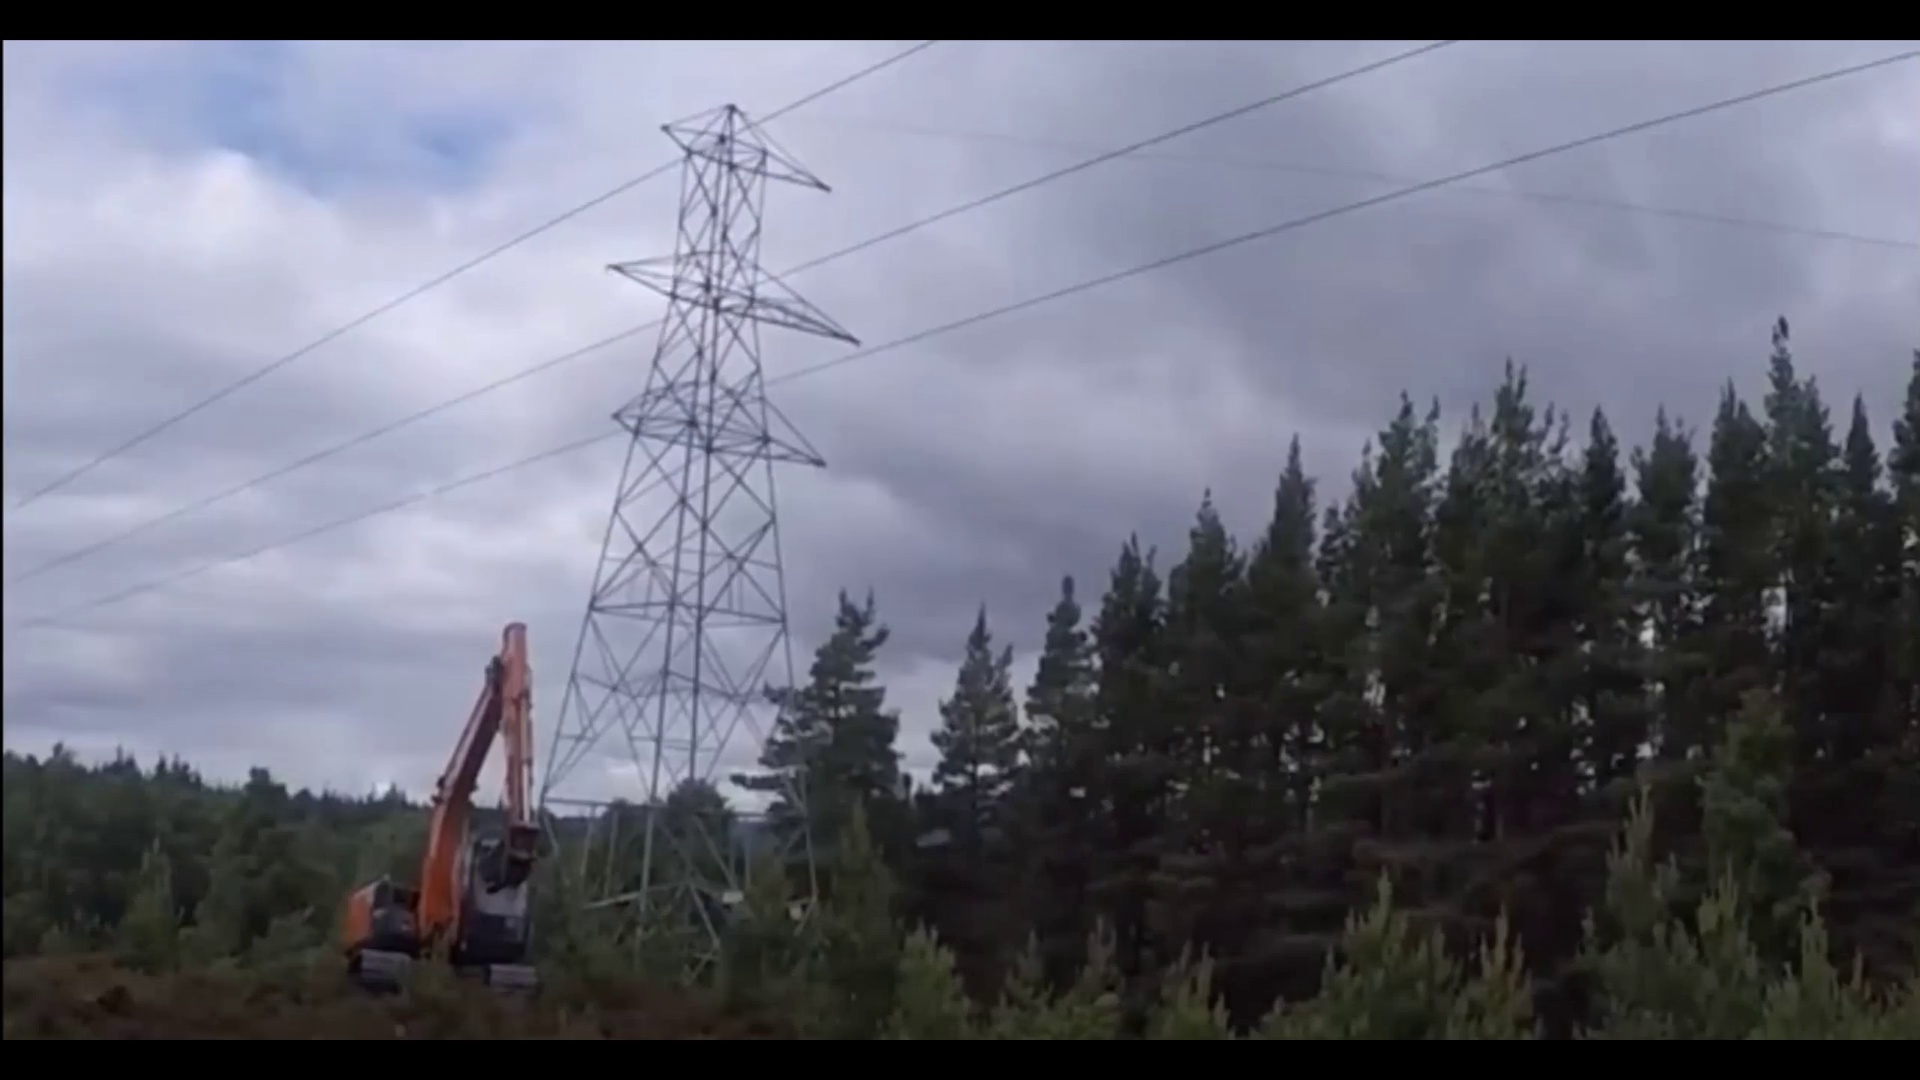tower_up: (525, 94, 885, 918)
